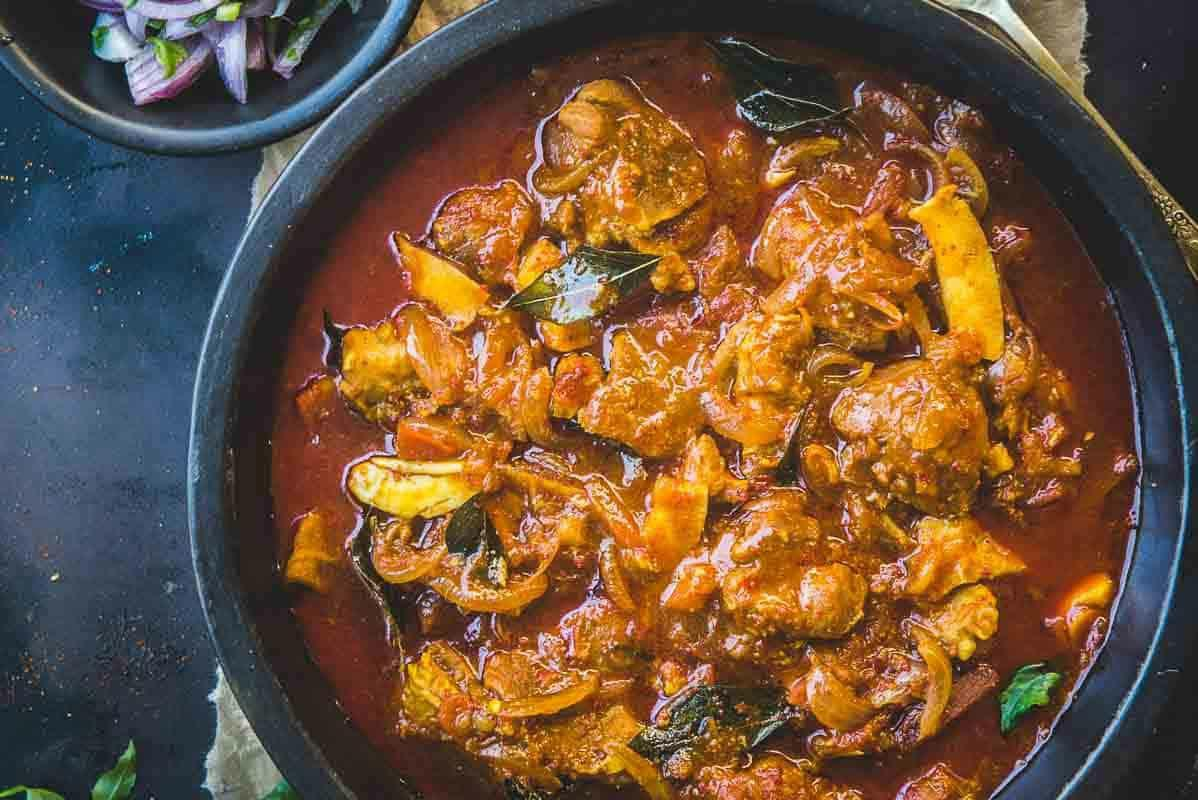MuttonCurry: (249, 25, 1134, 800)
